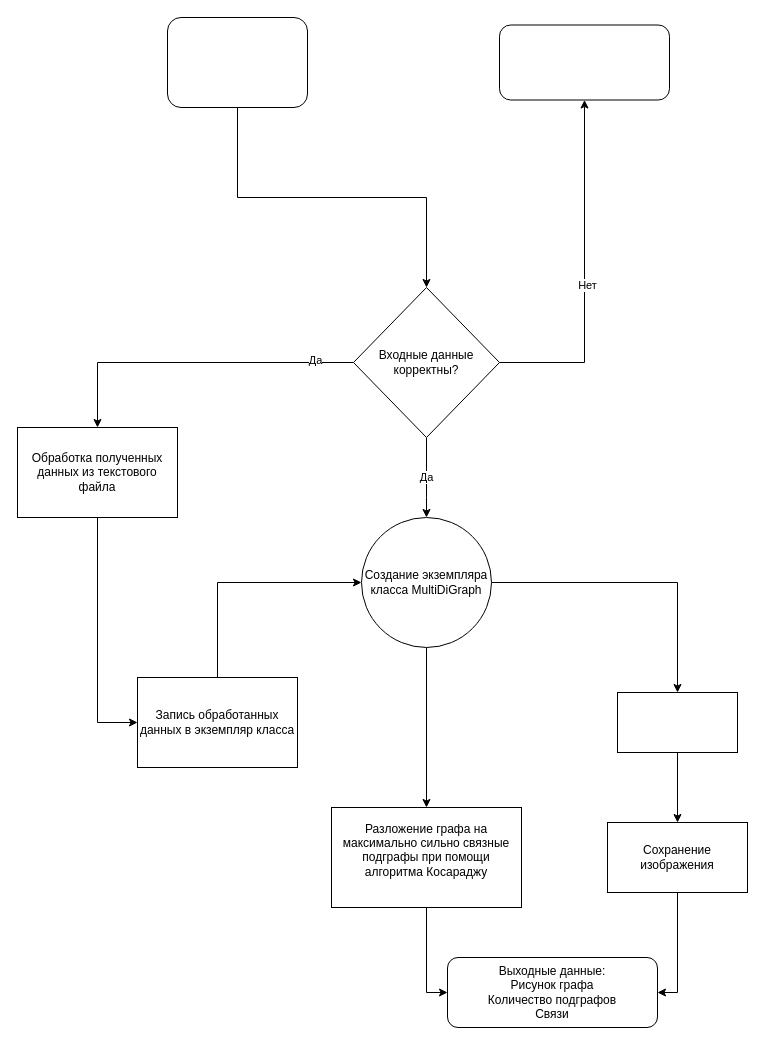
Image size: 765x1045. Some labels were removed from this diagram. Each missing label, with the box of its shape:
Входной текстовый файл с вершинами графа: (166, 16, 308, 108)
Отрисовка экземпляра класса: (616, 692, 738, 752)
Ошибка (TypeError): (498, 24, 670, 100)
